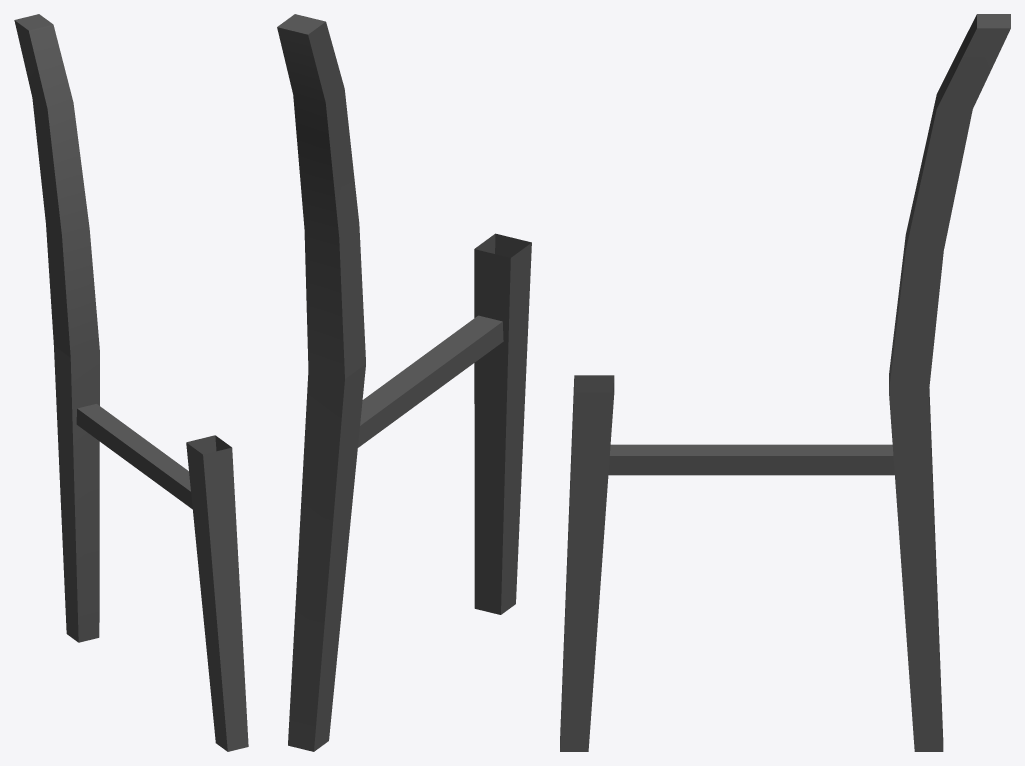
Rendered from Itr_Chair3_Leg_Right_04.FBX.
3 views of the same model, side by side, from view 1: azimuth 30°, elevation 25°; view 2: azimuth 150°, elevation 25°; view 3: azimuth 270°, elevation 25° (orthographic). The views are drawn at different scales.
Parts seen in each view (by area): view 1: Itr_Chair3_Leg_Right_04; view 2: Itr_Chair3_Leg_Right_04; view 3: Itr_Chair3_Leg_Right_04.
Boxes of the visible parts, x1,y1,x2,y2 form: Itr_Chair3_Leg_Right_04: (14, 14, 248, 751); Itr_Chair3_Leg_Right_04: (277, 14, 531, 751); Itr_Chair3_Leg_Right_04: (560, 14, 1010, 751).
Size of the model in its own units: 3.08 by 39.55 by 22.7.
